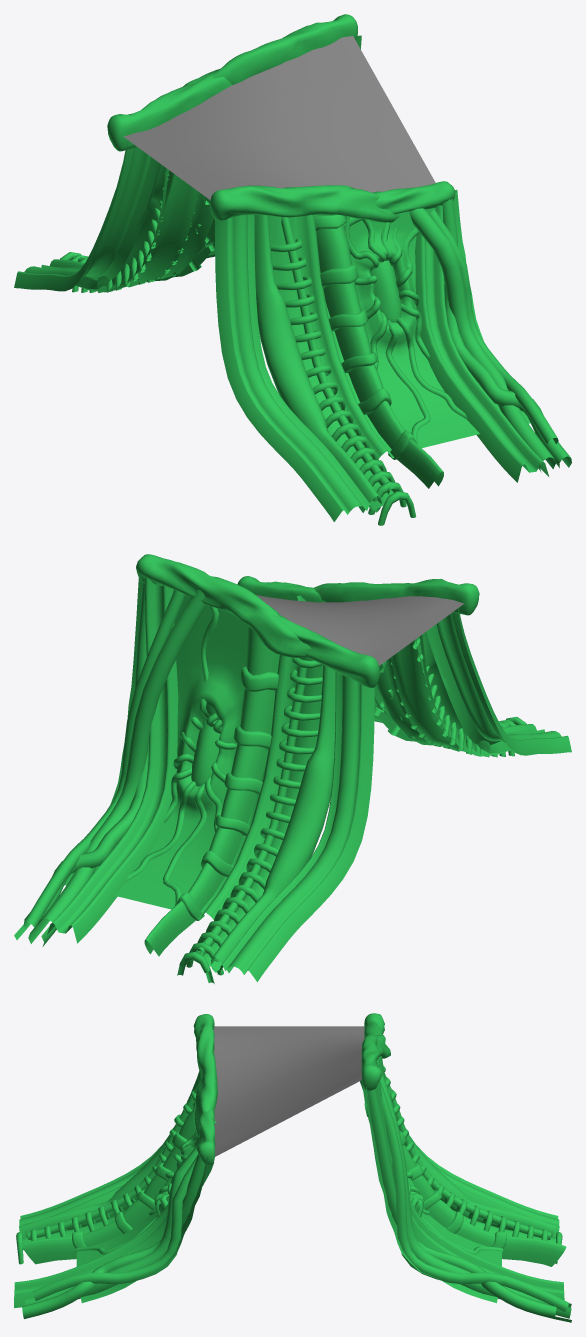
File: Track_alien_09.fbx
The picture shows the model from 3 angles, top to bottom: view 1: azimuth 30°, elevation 25°; view 2: azimuth 150°, elevation 25°; view 3: azimuth 270°, elevation 25°; orthographic projection. The views are drawn at different scales.
Parts seen in each view (by area): view 1: Side_Rock_009, Road_009; view 2: Side_Rock_009, Road_009; view 3: Side_Rock_009, Road_009.
Boxes of the visible parts, left/top/right/bottom form: Side_Rock_009: left=14, top=14, right=571, bottom=525; Road_009: left=123, top=35, right=435, bottom=200; Side_Rock_009: left=14, top=554, right=571, bottom=984; Road_009: left=256, top=595, right=464, bottom=665; Side_Rock_009: left=14, top=1013, right=571, bottom=1322; Road_009: left=213, top=1026, right=364, bottom=1156.
Size of what is drawn, in the model's own units: 3362 by 7700 by 3903.
